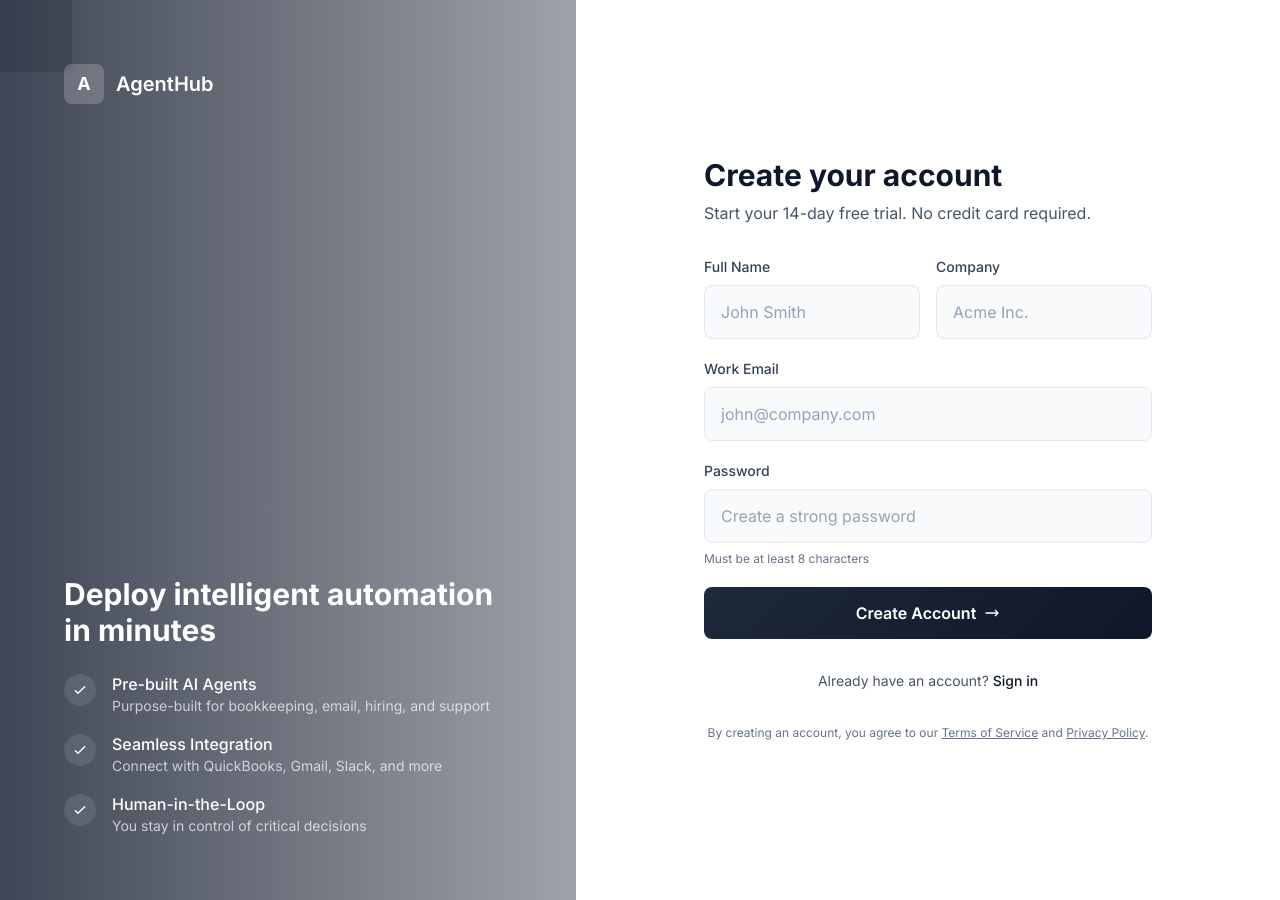
Test case: SignUpPage › Form Submission › should not redirect on signup error
Type "Jane Doe" into the field with placeholder "John Smith" at x=812, y=312, box [704, 285, 920, 339]
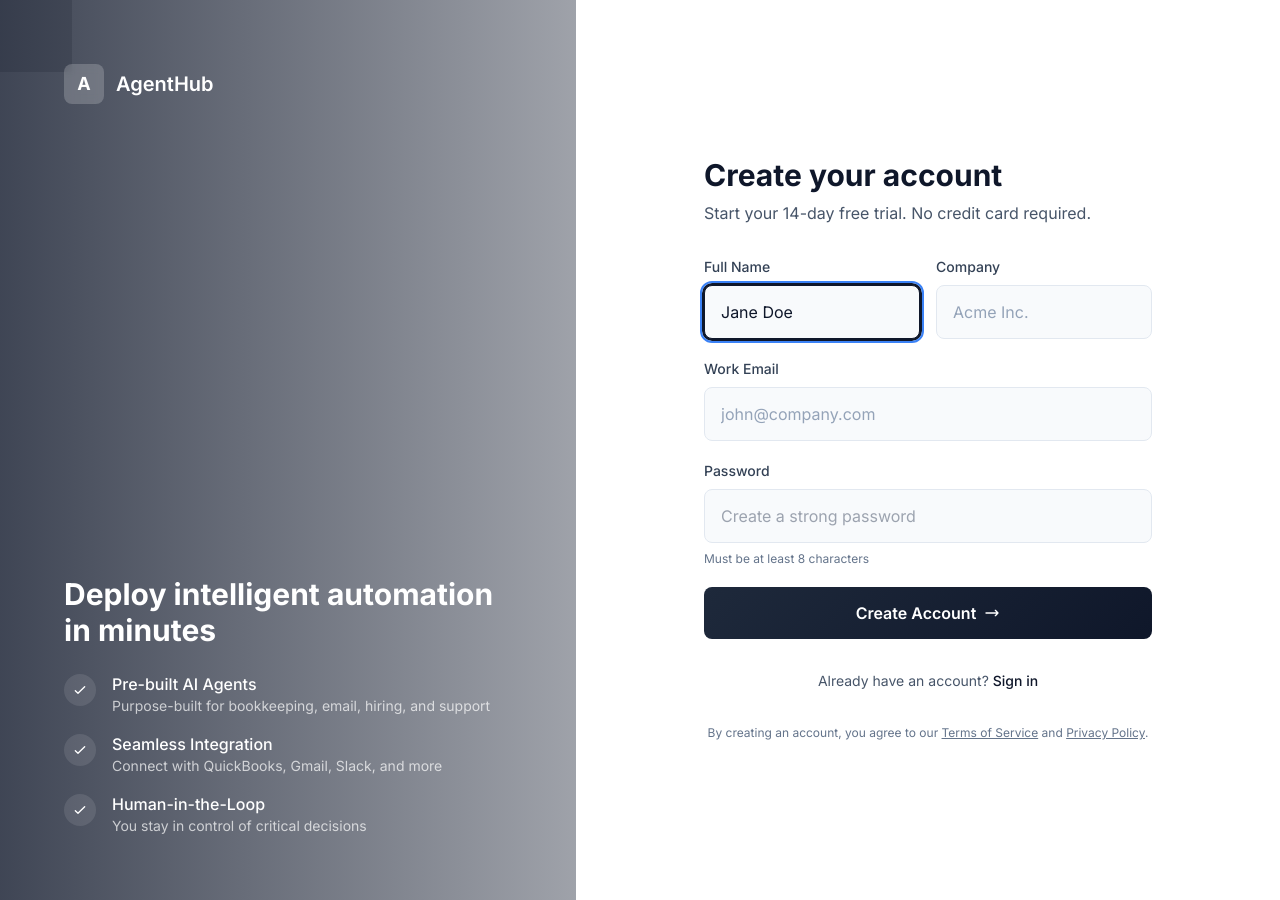
Type "jane@test.com" into the field with placeholder "john@company.com" at x=928, y=414, box [704, 387, 1152, 441]
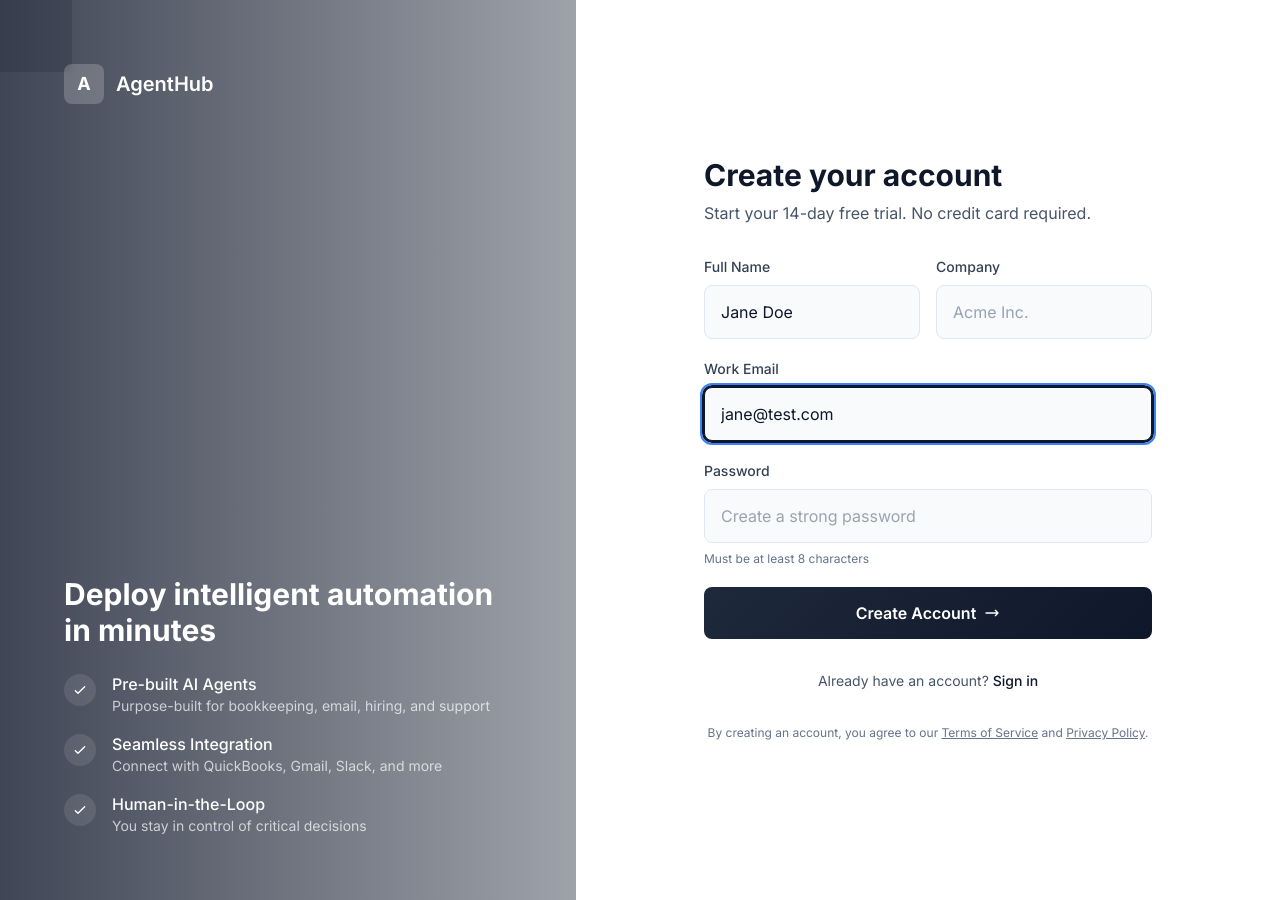
Type "securepass123" into the password field with placeholder "Create a strong password" at x=928, y=516, box [704, 489, 1152, 543]
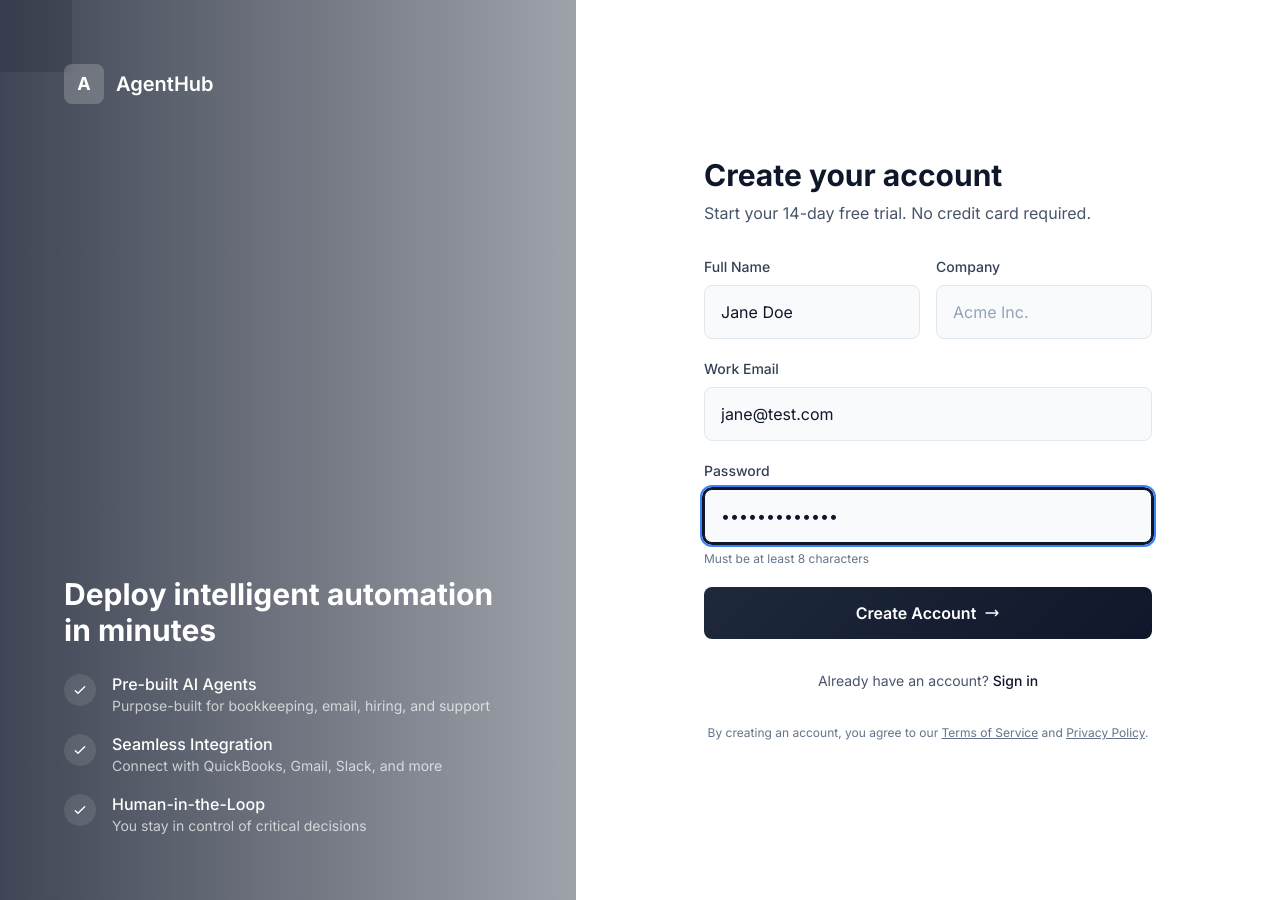
Click the button "Create Account" at x=928, y=613, box [704, 587, 1152, 639]
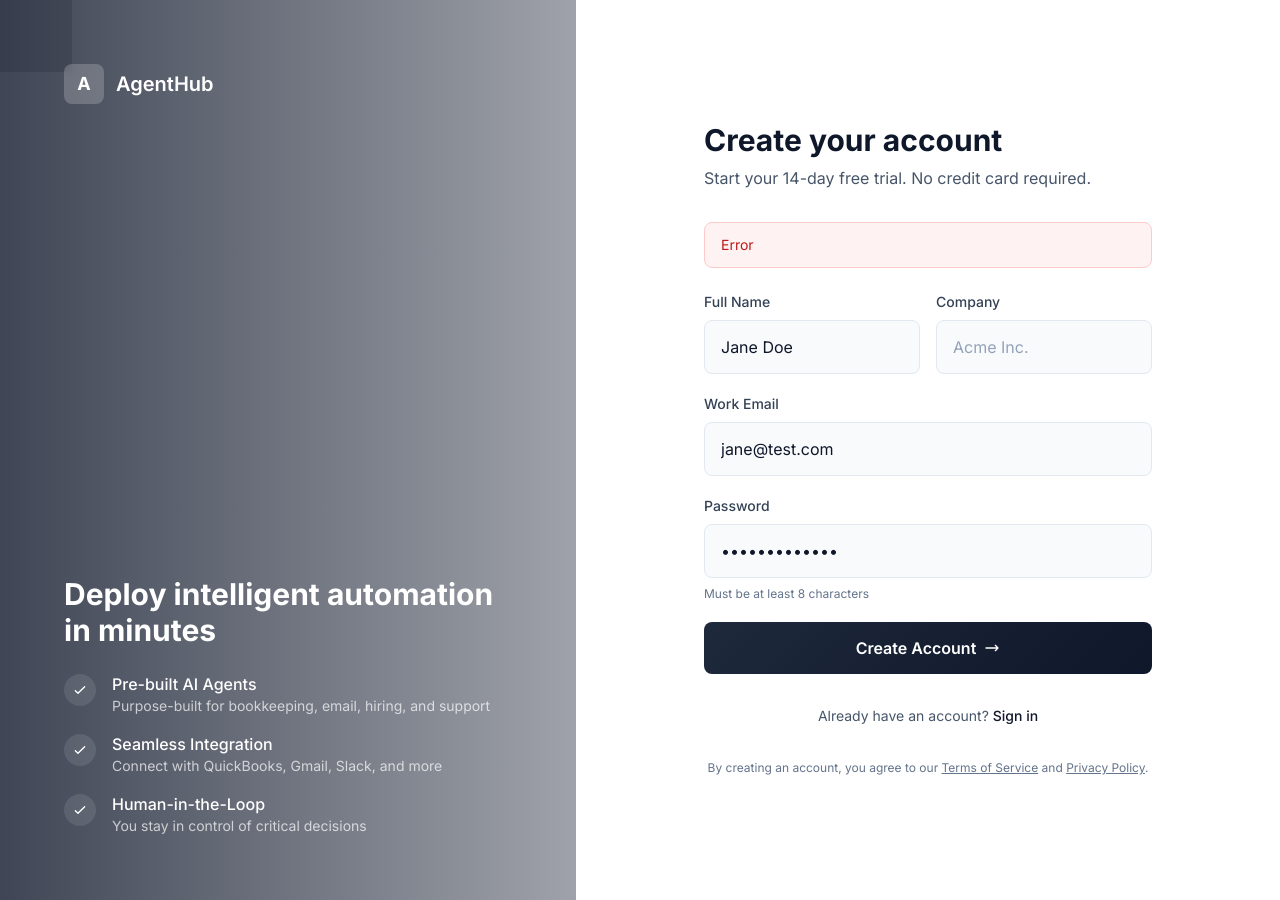
Result: the text "Error" is shown at [704, 222, 1152, 268]
